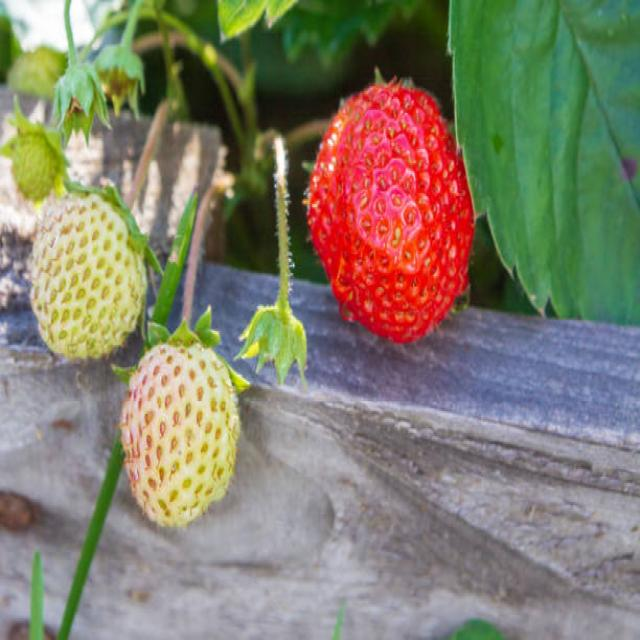Healthy Fruit: (308, 82, 473, 340), (121, 342, 239, 530), (30, 197, 144, 360)
